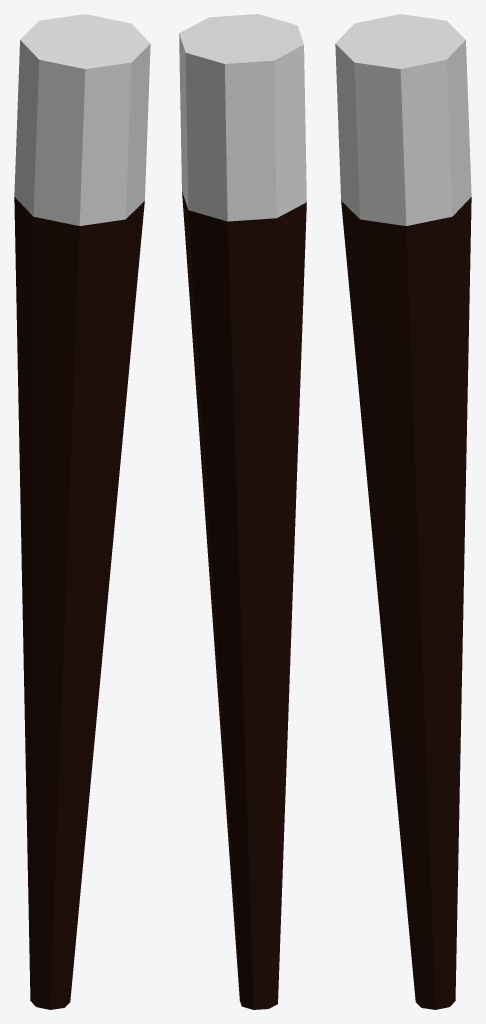
File: Torch_1FirstTry_1.fbx
3 views of the same model, side by side, from view 1: azimuth 90°, elevation 25°; view 2: azimuth 210°, elevation 25°; view 3: azimuth 270°, elevation 25° (orthographic).
Visible parts, largest first — view 1: Cylinder; view 2: Cylinder; view 3: Cylinder.
Part boxes in pixels (bbox=[...]): Cylinder: bbox=[14, 14, 150, 1009]; Cylinder: bbox=[179, 14, 306, 1009]; Cylinder: bbox=[335, 14, 471, 1009].
Size of the model in its own units: 13.9 by 113 by 14.5.
